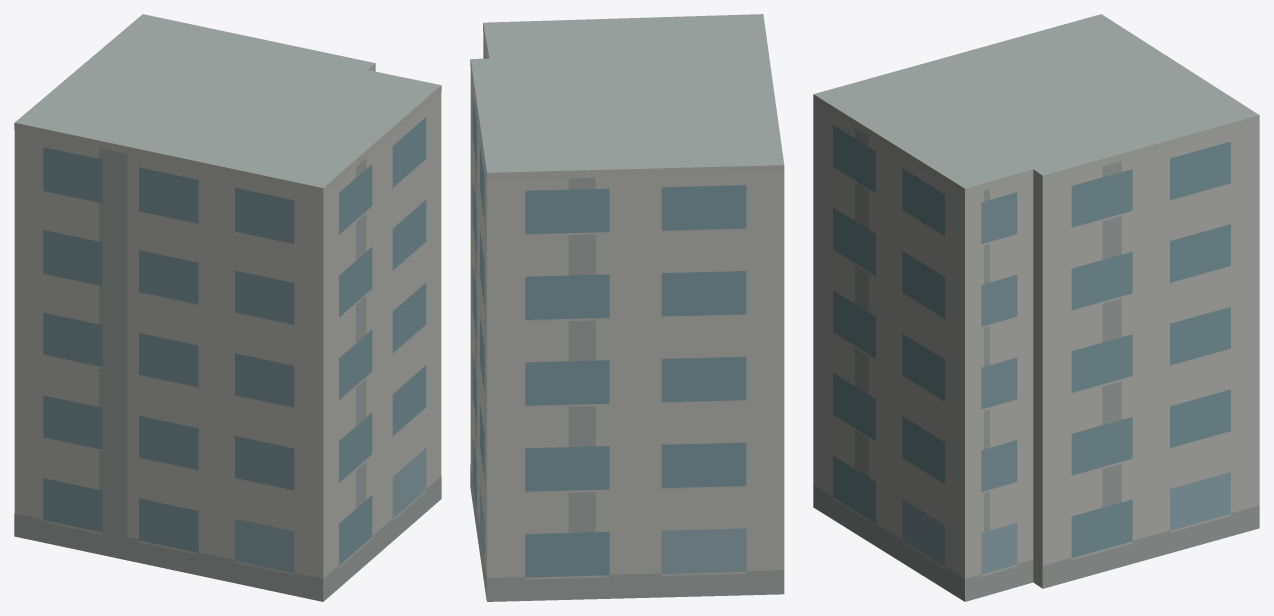
The model's file is survey-upis-32550210.glb.
3 renders of one model, left to right at view 1: azimuth 30°, elevation 25°; view 2: azimuth 150°, elevation 25°; view 3: azimuth 270°, elevation 25°, orthographic. The views are drawn at different scales.
Parts seen in each view (by area): view 1: survey-upis-32550210.tmp; view 2: survey-upis-32550210.tmp; view 3: survey-upis-32550210.tmp.
Boxes of the visible parts, <box> form: survey-upis-32550210.tmp: <box>14,14,441,601</box>; survey-upis-32550210.tmp: <box>470,14,784,601</box>; survey-upis-32550210.tmp: <box>813,14,1259,601</box>.
Size of the model in its own units: 12.25 by 13.5 by 13.22.
